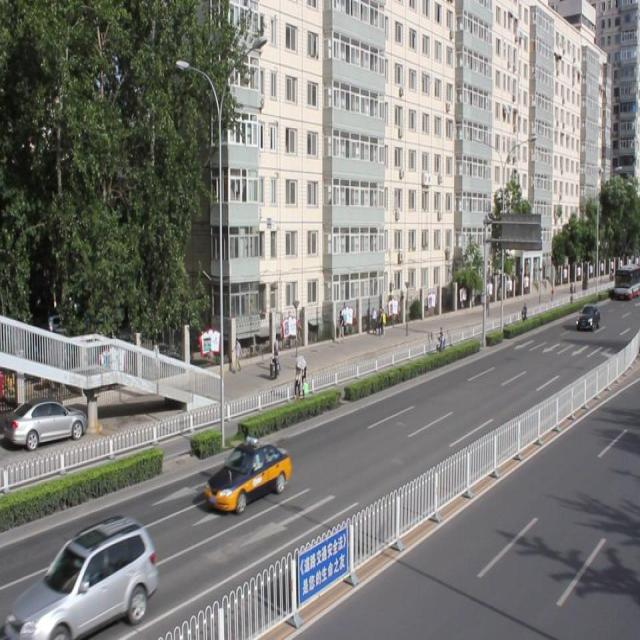car: (12, 515, 156, 640), (204, 438, 290, 514)
